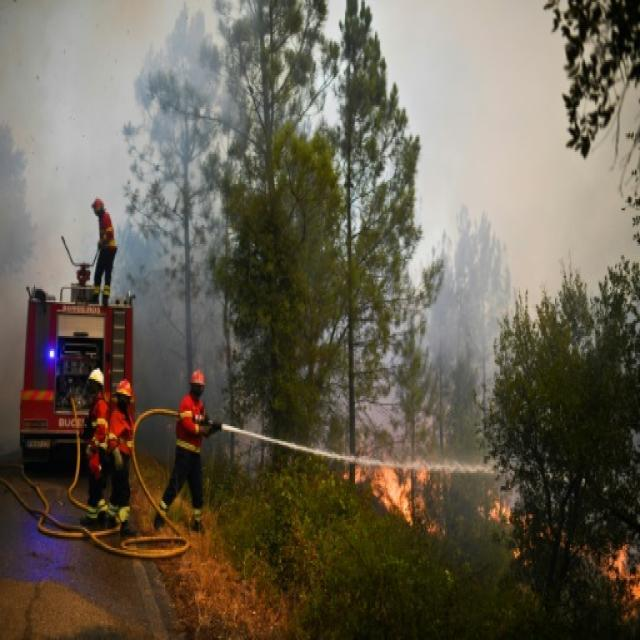Fire: (343, 446, 436, 532), (599, 529, 640, 621)
